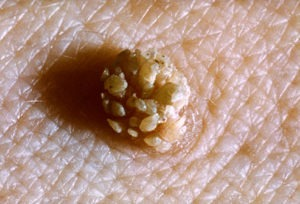Warts: (49, 27, 220, 175)
